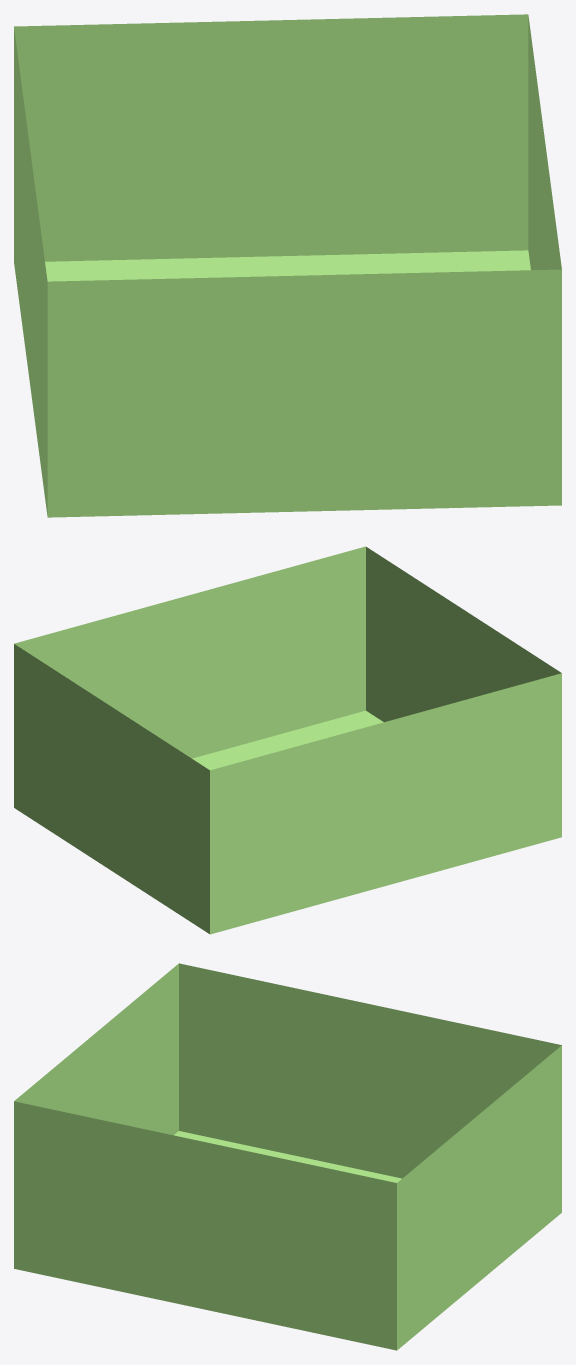
The model's file is Vas14.glb.
3 views of the same model, one above another, from view 1: azimuth 30°, elevation 25°; view 2: azimuth 150°, elevation 25°; view 3: azimuth 270°, elevation 25° (orthographic). The views are drawn at different scales.
Visible parts, largest first — view 1: Cube; view 2: Cube; view 3: Cube.
Boxes of the visible parts, <box> form: Cube: <box>14,14,561,517</box>; Cube: <box>14,546,561,934</box>; Cube: <box>14,963,561,1350</box>.
Size of the model in its own units: 86.16 by 30.63 by 90.8.
